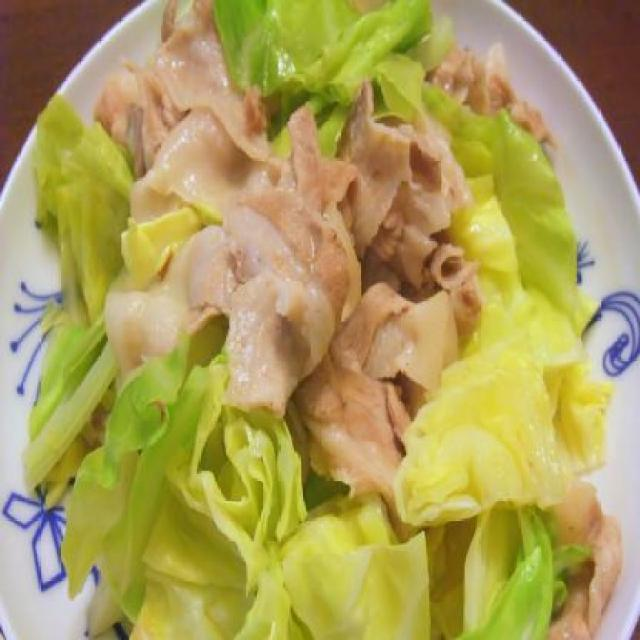Salad: (21, 0, 624, 638)
